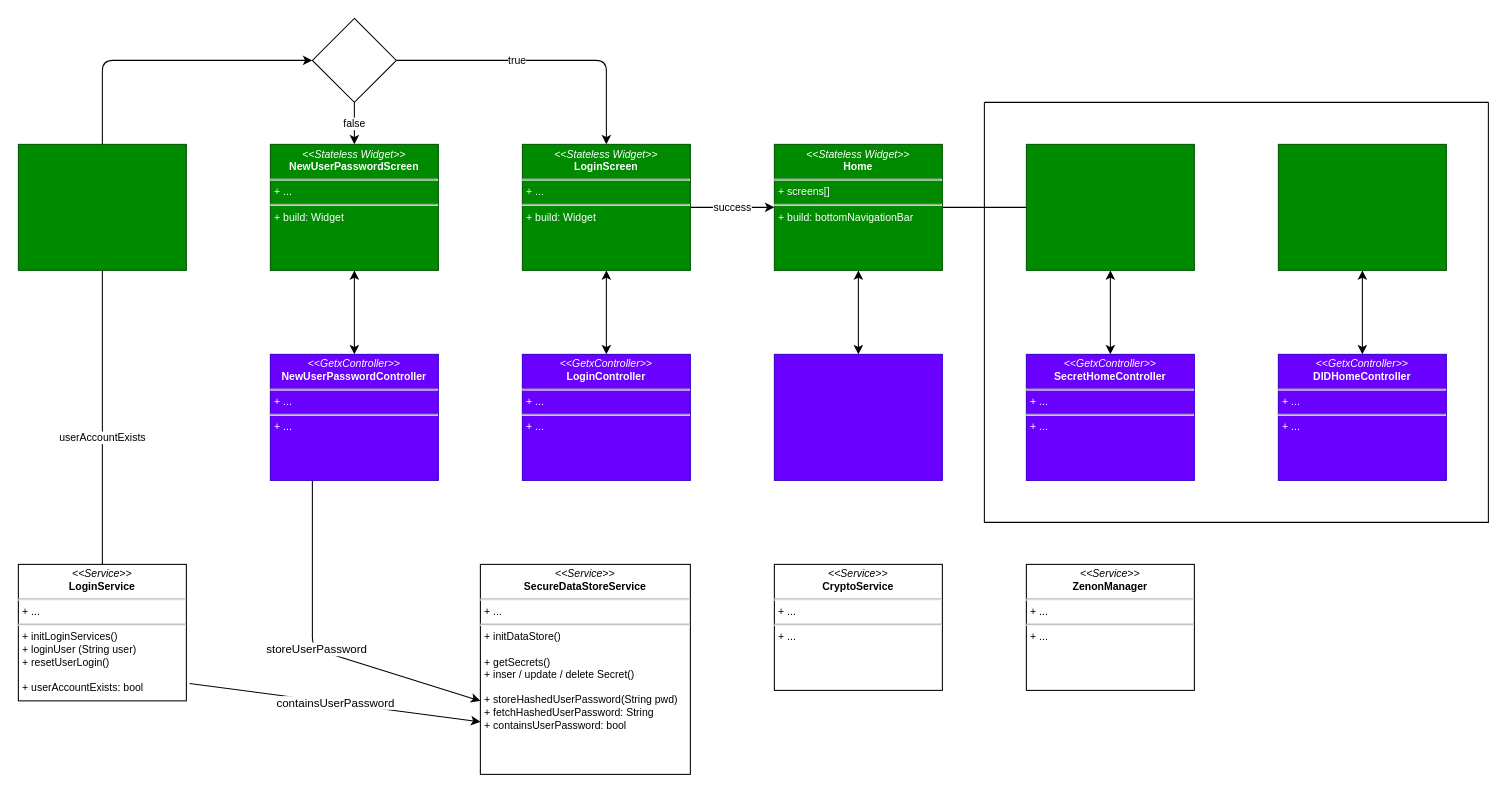
The diagram is 1507 pixels wide and 793 high, and some of its shapes have lost their labels. The shapes that lost their labels are listed below. From the top down, each one's centre as x and y in pixels, then its label:
At pixel 353 59: "Has Account".
At pixel 101 206: "<<Stateless Widget>> Zeus (main.dart) + ... + hasAccount: bool".
At pixel 1109 206: "<<Stateless Widget>> SecretHomeScreen + screens[] + build: bottomNavigationBar".
At pixel 1361 206: "<<Stateless Widget>> DIDHome + screens[] + build: bottomNavigationBar".
At pixel 857 416: "<<GetxController>> HomeController + ... + setCurrentTabIndex".
